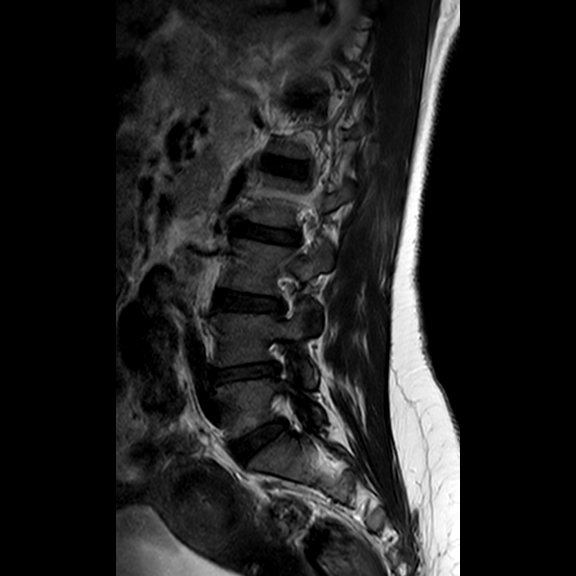LFS0: (260, 265, 309, 325)
LFS1: (259, 332, 309, 385)
